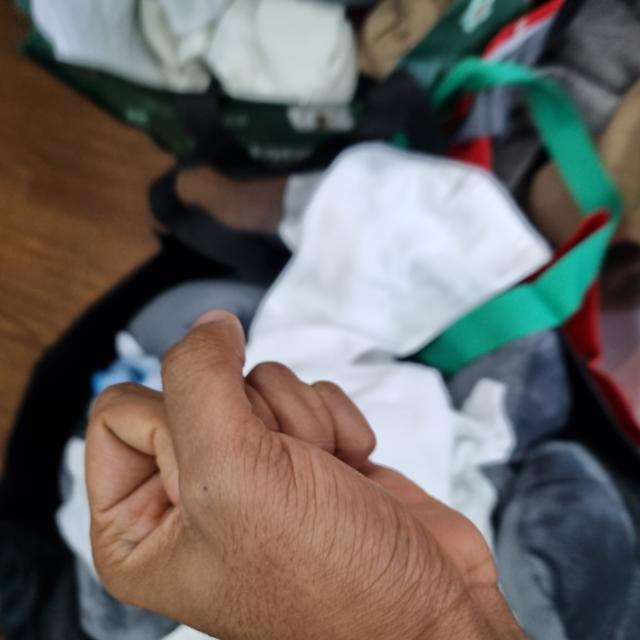Rock: (0, 82, 324, 537)
